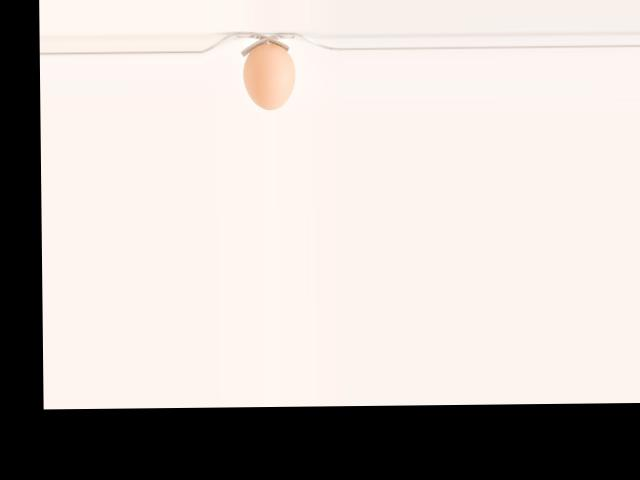egg: (243, 42, 296, 109)
